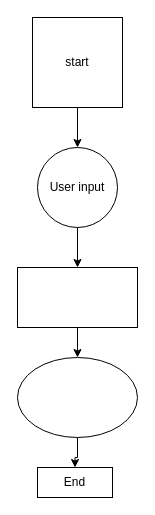
Image size: 155x515. Some labels were removed from this diagram. Here are the shapes that lost their labels. From the top down, the centre of each, then its label:
point 77,297: Add
point 77,397: display screen
